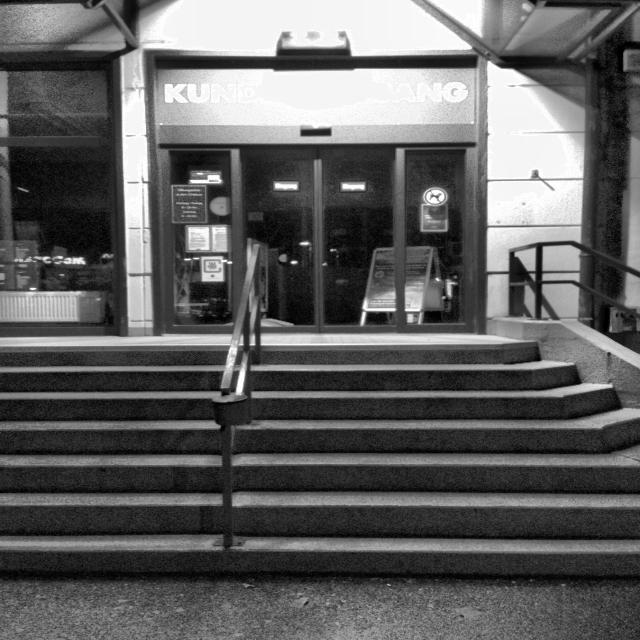escada: (2, 343, 640, 577)
